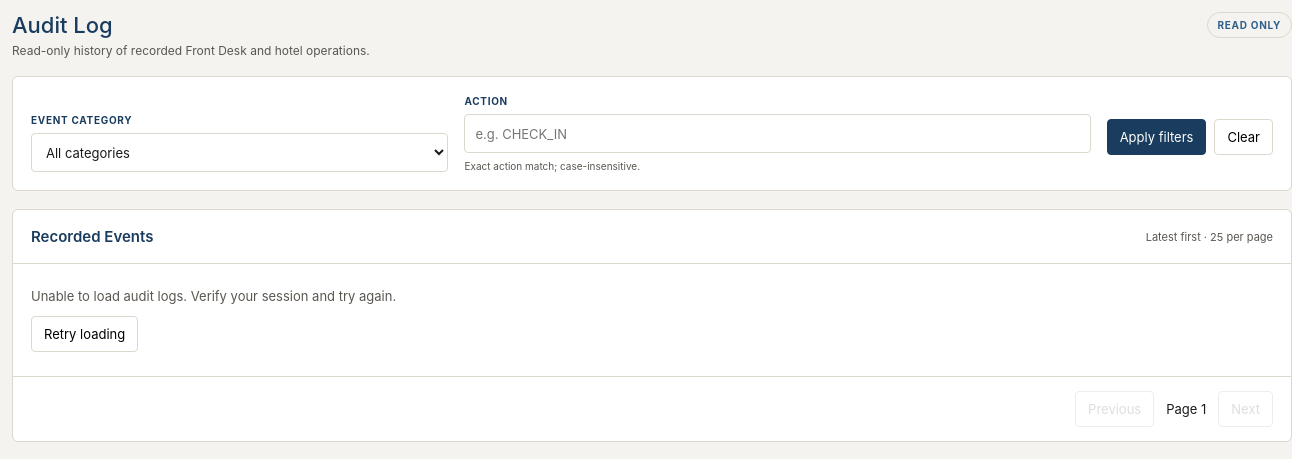
AuditLogScreen › shows an accessible error and allows retry
Expected: the message shows "Unable to load audit logs", [31, 288, 396, 304]
Click the button "Retry loading" at (85,334), box [31, 316, 138, 352]
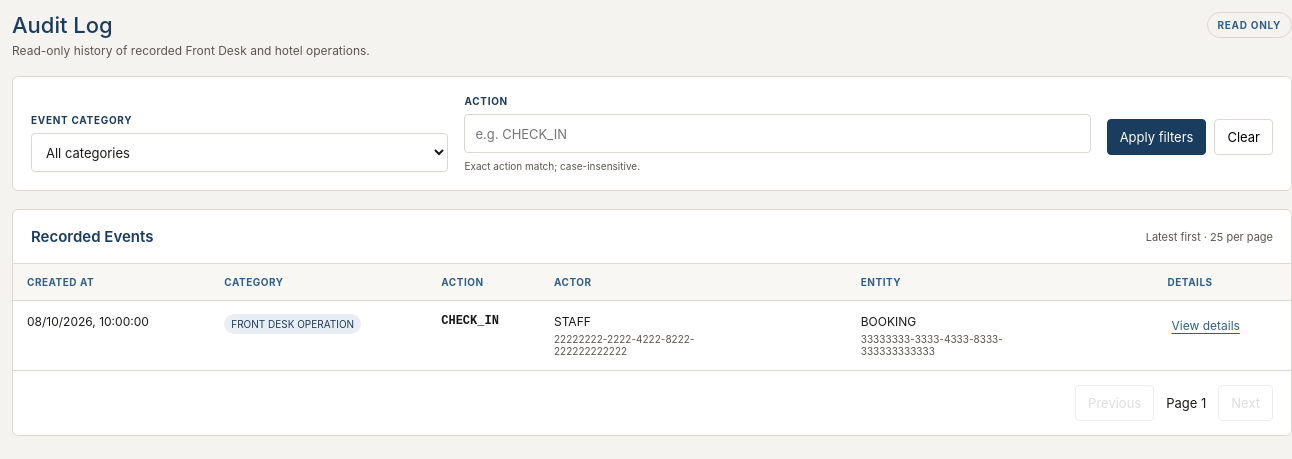
Now the text "CHECK_IN" is shown, box [427, 300, 540, 370]
